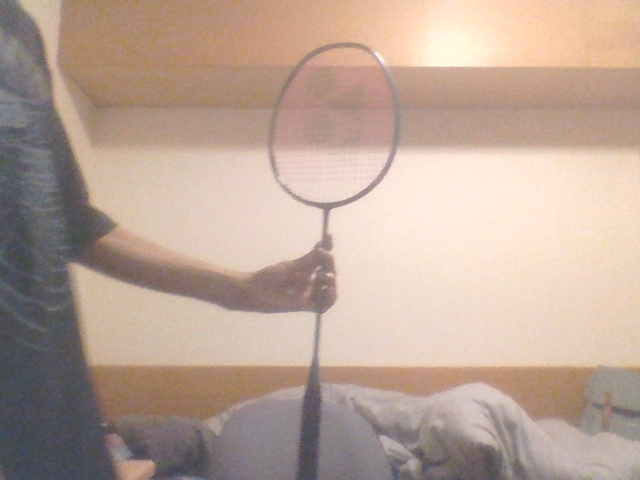human: (1, 1, 338, 480)
racket: (266, 41, 401, 480)
